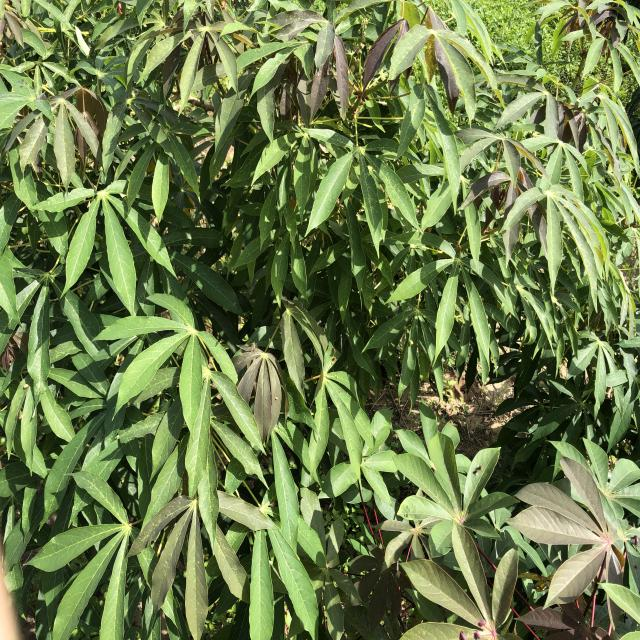Mosca: (467, 462, 489, 483)
